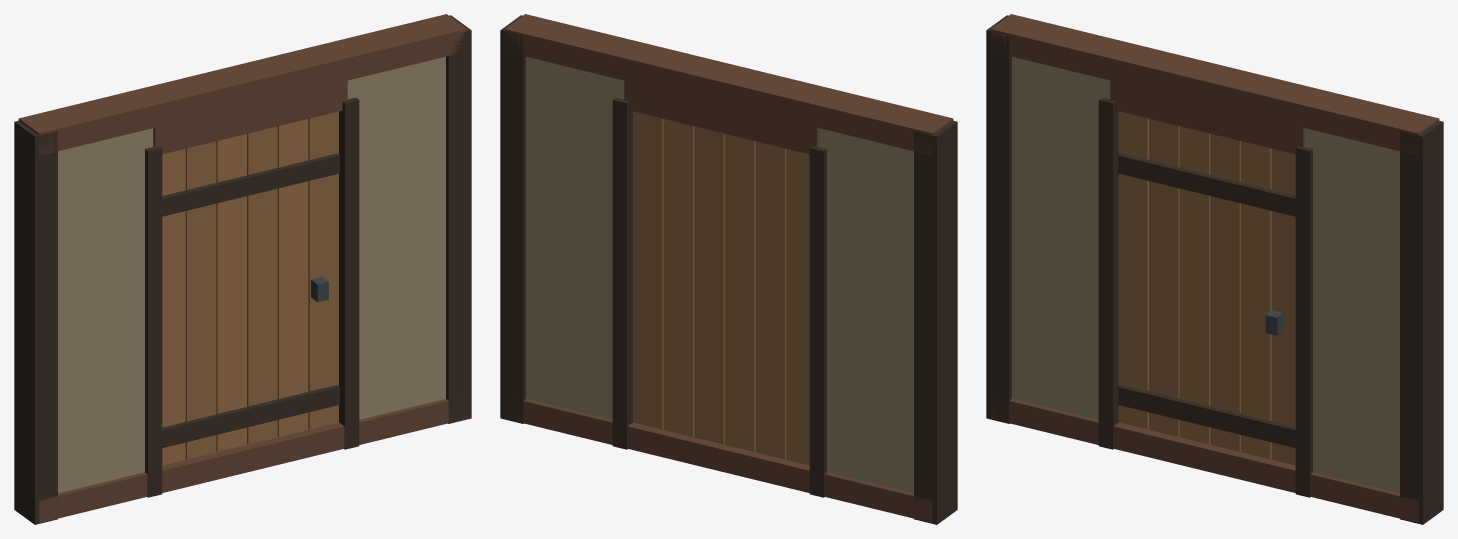
The model's file is Wall_Door.glb.
The picture shows the model from 3 angles, left to right: view 1: azimuth 30°, elevation 25°; view 2: azimuth 150°, elevation 25°; view 3: azimuth 330°, elevation 25°; orthographic projection.
Parts seen in each view (by area): view 1: _MeshInstance3D_3869, _MeshInstance3D_3868, _MeshInstance3D_3885, _MeshInstance3D_3882, _MeshInstance3D_3884, _MeshInstance3D_3883, _MeshInstance3D_3874, _MeshInstance3D_3877, _MeshInstance3D_3876, _MeshInstance3D_3875, _MeshInstance3D_3878, _MeshInstance3D_3872 (+5 smaller); view 2: _MeshInstance3D_3869, _MeshInstance3D_3868, _MeshInstance3D_3885, _MeshInstance3D_3882, _MeshInstance3D_3884, _MeshInstance3D_3883, _MeshInstance3D_3874, _MeshInstance3D_3877, _MeshInstance3D_3876, _MeshInstance3D_3878, _MeshInstance3D_3875, _MeshInstance3D_3873 (+3 smaller); view 3: _MeshInstance3D_3868, _MeshInstance3D_3869, _MeshInstance3D_3885, _MeshInstance3D_3883, _MeshInstance3D_3884, _MeshInstance3D_3882, _MeshInstance3D_3875, _MeshInstance3D_3873, _MeshInstance3D_3876, _MeshInstance3D_3874, _MeshInstance3D_3877, _MeshInstance3D_3871 (+5 smaller).
Part boxes in pixels (x1=…): _MeshInstance3D_3869: x1=347, y1=56, x2=445, y2=419; _MeshInstance3D_3868: x1=58, y1=128, x2=153, y2=493; _MeshInstance3D_3885: x1=18, y1=14, x2=467, y2=155; _MeshInstance3D_3882: x1=14, y1=120, x2=57, y2=524; _MeshInstance3D_3884: x1=39, y1=399, x2=467, y2=522; _MeshInstance3D_3883: x1=446, y1=15, x2=471, y2=423; _MeshInstance3D_3874: x1=185, y1=141, x2=216, y2=459; _MeshInstance3D_3877: x1=277, y1=119, x2=308, y2=436; _MeshInstance3D_3876: x1=247, y1=126, x2=277, y2=444; _MeshInstance3D_3875: x1=216, y1=134, x2=246, y2=451; _MeshInstance3D_3878: x1=308, y1=111, x2=338, y2=429; _MeshInstance3D_3872: x1=339, y1=97, x2=359, y2=449; _MeshInstance3D_3869: x1=526, y1=56, x2=624, y2=419; _MeshInstance3D_3868: x1=818, y1=128, x2=913, y2=493; _MeshInstance3D_3885: x1=504, y1=14, x2=953, y2=155; _MeshInstance3D_3882: x1=914, y1=120, x2=957, y2=524; _MeshInstance3D_3884: x1=505, y1=399, x2=932, y2=522; _MeshInstance3D_3883: x1=500, y1=15, x2=525, y2=423; _MeshInstance3D_3874: x1=755, y1=141, x2=786, y2=459; _MeshInstance3D_3877: x1=663, y1=119, x2=694, y2=436; _MeshInstance3D_3876: x1=694, y1=126, x2=724, y2=444; _MeshInstance3D_3878: x1=633, y1=111, x2=663, y2=429; _MeshInstance3D_3875: x1=725, y1=134, x2=755, y2=451; _MeshInstance3D_3873: x1=786, y1=149, x2=809, y2=465; _MeshInstance3D_3868: x1=1012, y1=56, x2=1110, y2=419; _MeshInstance3D_3869: x1=1304, y1=128, x2=1399, y2=493; _MeshInstance3D_3885: x1=990, y1=14, x2=1439, y2=155; _MeshInstance3D_3883: x1=1400, y1=120, x2=1443, y2=524; _MeshInstance3D_3884: x1=991, y1=398, x2=1418, y2=522; _MeshInstance3D_3882: x1=986, y1=15, x2=1011, y2=423; _MeshInstance3D_3875: x1=1179, y1=126, x2=1210, y2=444; _MeshInstance3D_3873: x1=1118, y1=111, x2=1148, y2=429; _MeshInstance3D_3876: x1=1210, y1=133, x2=1240, y2=451; _MeshInstance3D_3874: x1=1149, y1=118, x2=1179, y2=436; _MeshInstance3D_3877: x1=1241, y1=141, x2=1271, y2=459; _MeshInstance3D_3871: x1=1098, y1=97, x2=1118, y2=449.
Bounding box in the file's own units: 3.06 × 2.61 × 0.275.
